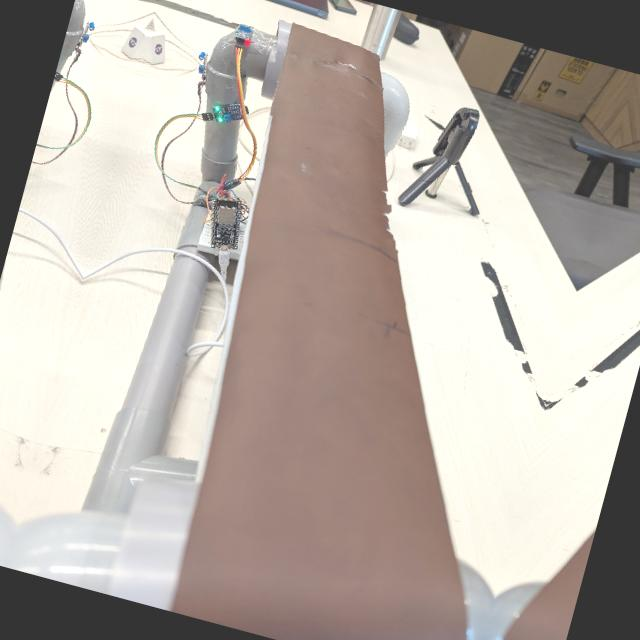edge_damage: (358, 170, 420, 267)
joint_damage: (332, 49, 368, 81)
